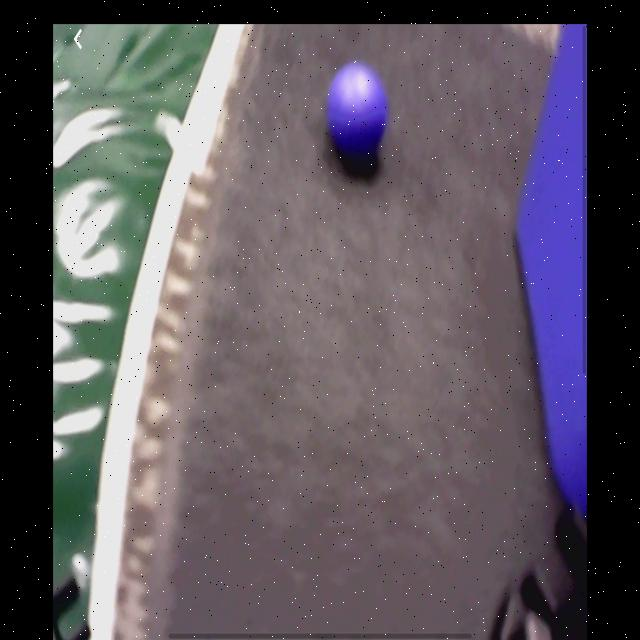ball: (329, 63, 387, 161)
